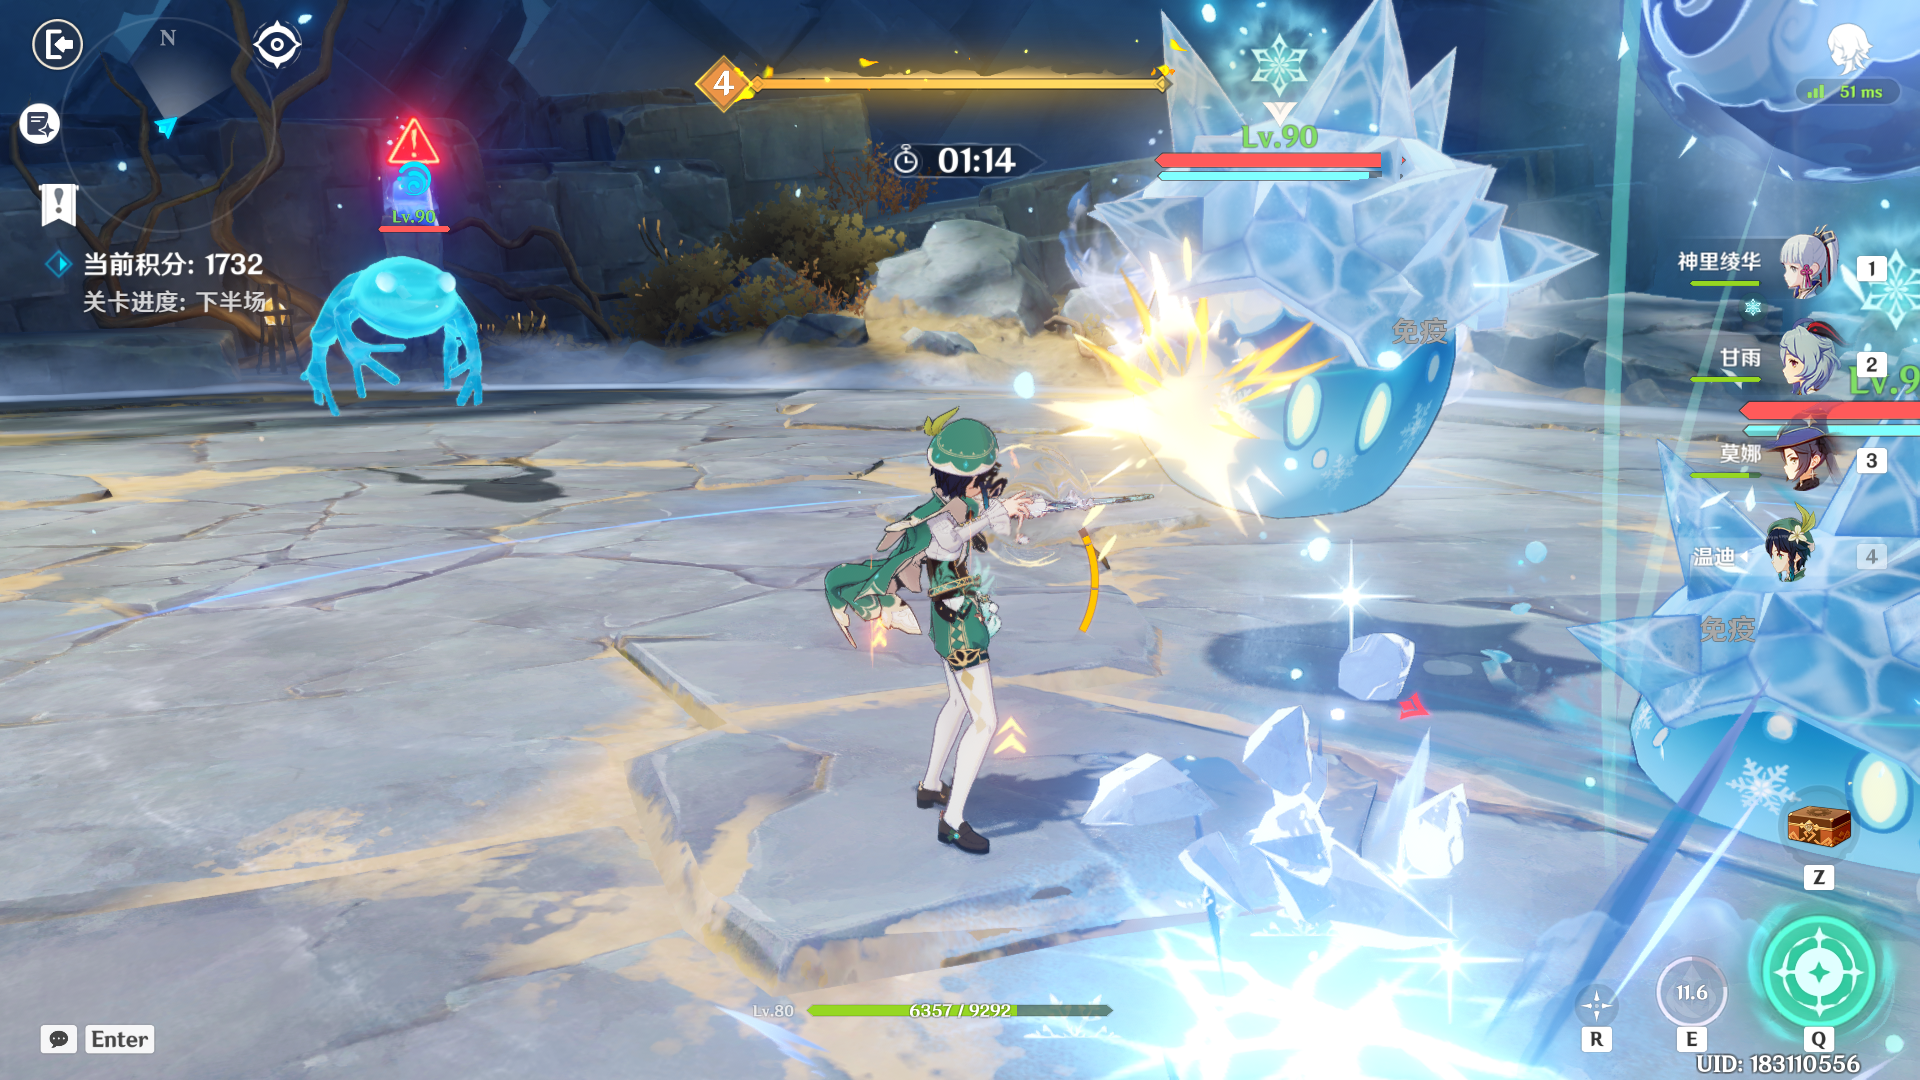character: (833, 384, 1112, 866)
slime: (1059, 105, 1509, 512), (1593, 431, 1920, 862)
